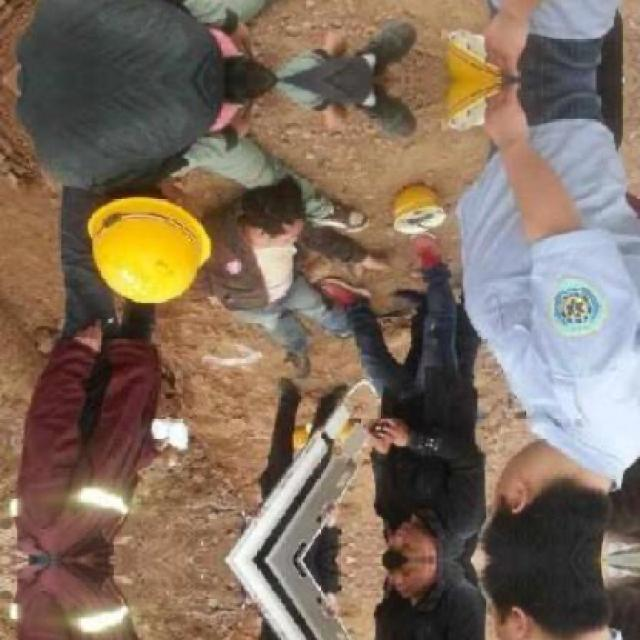con casco: (0, 147, 270, 318)
sin casco: (433, 422, 635, 592), (339, 493, 467, 586)
